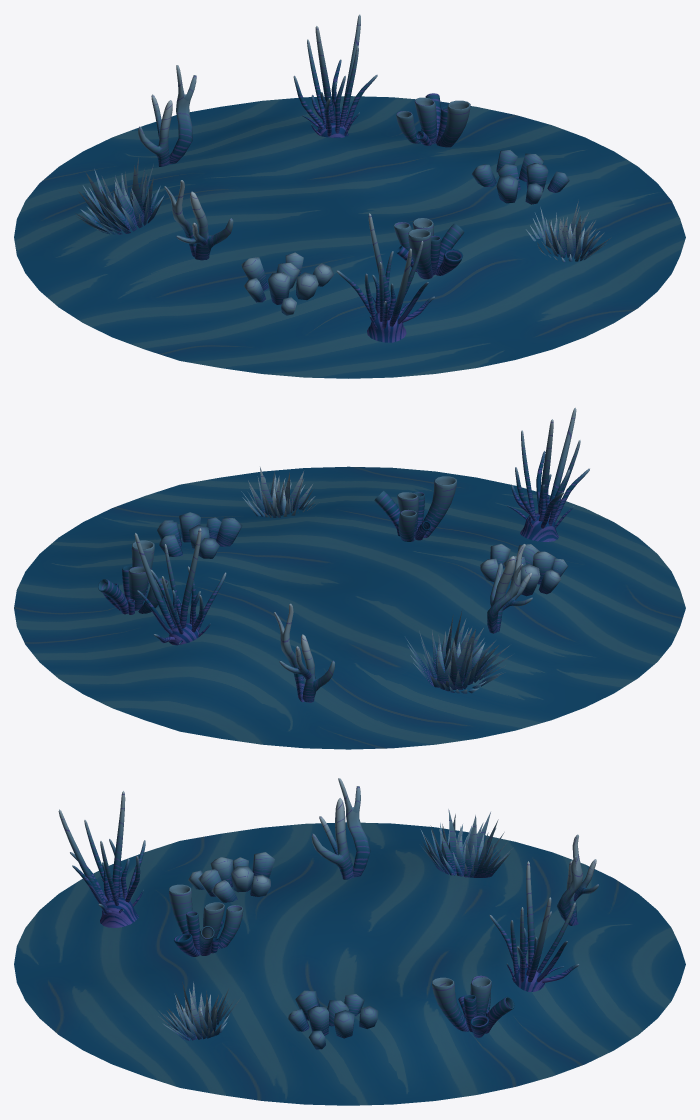
File: oceanFloorModel.glb
3 views of the same model, one above another, from view 1: azimuth 30°, elevation 25°; view 2: azimuth 150°, elevation 25°; view 3: azimuth 270°, elevation 25° (orthographic).
Parts seen in each view (by area): view 1: pDisc1, Plant1_B, Plant2, Plant1, Coral2, Coral2_B, polySurface9, polySurface26, Coral1_B, Plant2_B, Coral1; view 2: pDisc1, Plant1_B, Plant2, Plant1, polySurface9, Coral2_B, Coral2, polySurface26, Coral1_B, Plant2_B, Coral1; view 3: pDisc1, Plant1_B, Plant1, polySurface9, Plant2, Coral2_B, polySurface26, Coral2, Coral1, Plant2_B, Coral1_B.
Part boxes in pixels (bbox=[...]): pDisc1: bbox=[14, 96, 685, 378]; Plant1_B: bbox=[336, 213, 434, 342]; Plant2: bbox=[75, 158, 164, 234]; Plant1: bbox=[293, 14, 377, 138]; Coral2: bbox=[241, 252, 333, 315]; Coral2_B: bbox=[472, 150, 569, 204]; polySurface9: bbox=[393, 218, 464, 279]; polySurface26: bbox=[396, 93, 470, 147]; Coral1_B: bbox=[138, 65, 196, 166]; Plant2_B: bbox=[526, 201, 611, 262]; Coral1: bbox=[164, 180, 233, 260]; pDisc1: bbox=[14, 466, 685, 749]; Plant1_B: bbox=[507, 407, 589, 541]; Plant2: bbox=[405, 610, 511, 693]; Plant1: bbox=[134, 528, 226, 645]; polySurface9: bbox=[374, 476, 456, 541]; Coral2_B: bbox=[157, 512, 242, 558]; Coral2: bbox=[480, 544, 567, 596]; polySurface26: bbox=[98, 540, 168, 614]; Coral1_B: bbox=[274, 603, 334, 702]; Plant2_B: bbox=[241, 467, 319, 517]; Coral1: bbox=[487, 544, 532, 633]; pDisc1: bbox=[14, 822, 685, 1105]; Plant1_B: bbox=[58, 791, 145, 927]; Plant1: bbox=[489, 861, 579, 991]; polySurface9: bbox=[169, 884, 243, 956]; Plant2: bbox=[420, 809, 513, 877]; Coral2_B: bbox=[288, 990, 378, 1049]; polySurface26: bbox=[432, 975, 514, 1037]; Coral2: bbox=[188, 852, 274, 902]; Coral1: bbox=[311, 778, 370, 879]; Plant2_B: bbox=[158, 982, 240, 1040]; Coral1_B: bbox=[557, 834, 598, 925].
Bounding box in the file's own units: 0.3012 × 0.0668 × 0.3025.
2 materials, 2 textured.
